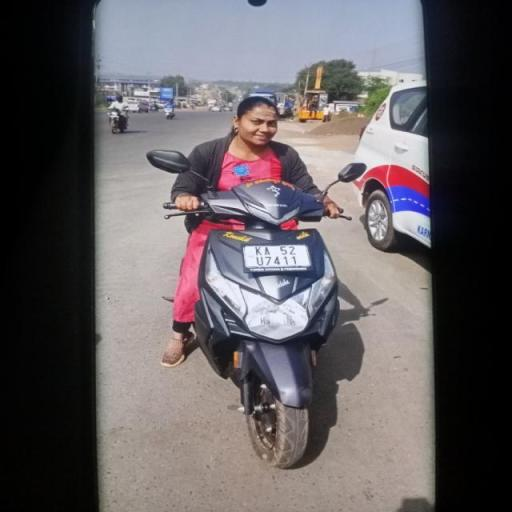bike: (145, 93, 369, 460)
numberplate: (242, 246, 312, 270)
withouthelmet: (238, 97, 281, 144)
